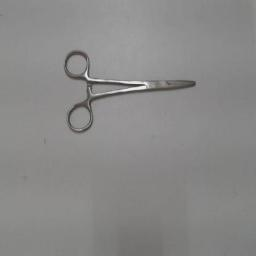Mayo Needle Holder: (62, 44, 198, 138)
